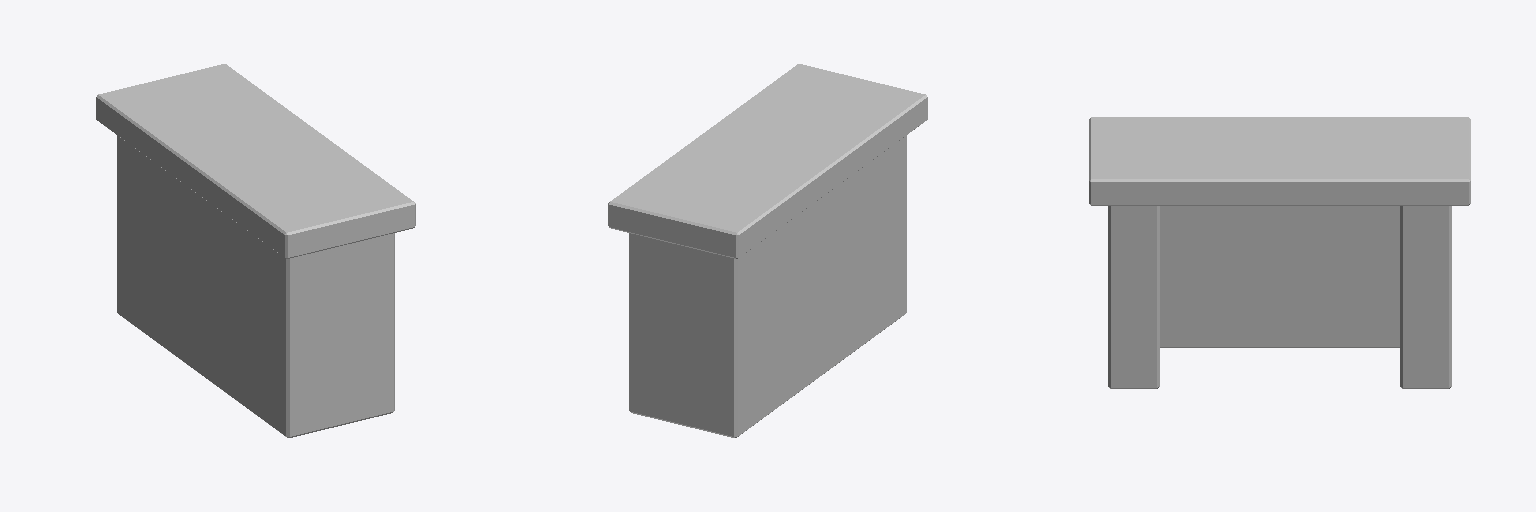
Rendered from fireplace.obj.
The picture shows the model from 3 angles: view 1: azimuth 30°, elevation 25°; view 2: azimuth 150°, elevation 25°; view 3: azimuth 270°, elevation 25°; orthographic projection.
Parts seen in each view (by area): view 1: fireplace; view 2: fireplace; view 3: fireplace.
Part boxes in pixels (left/top/right/bottom): fireplace: left=96, top=64, right=415, bottom=437; fireplace: left=608, top=64, right=927, bottom=437; fireplace: left=1089, top=117, right=1470, bottom=388.
Size of the model in its own units: 2.07 by 3.25 by 5.22.